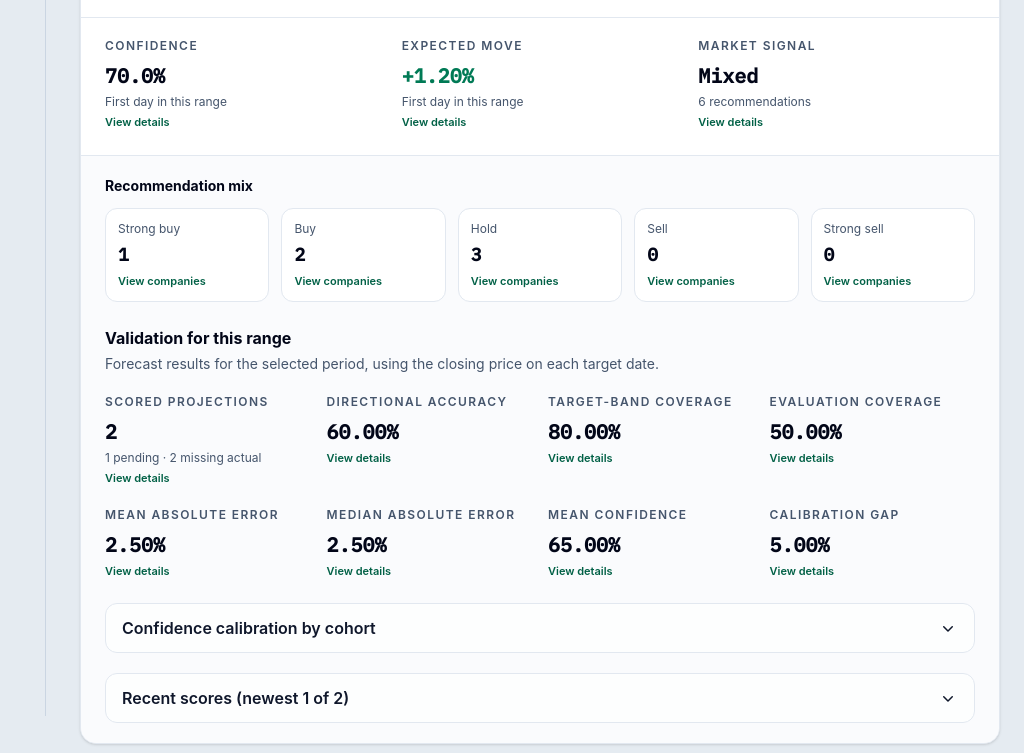
Scenario: HistoricalTrends fetch races › renders exact-session validation metrics and sample outcomes
(page scrolled)
Expected: the text "Directional accuracy" is shown, x1=326 y1=394 x2=532 y2=410
Expected: the text "60.00%" is shown, x1=326 y1=418 x2=398 y2=445
Step 1. Click the button with aria-label "View directional accuracy details: 60.00%" → (421, 442), box x1=318 y1=414 x2=524 y2=470
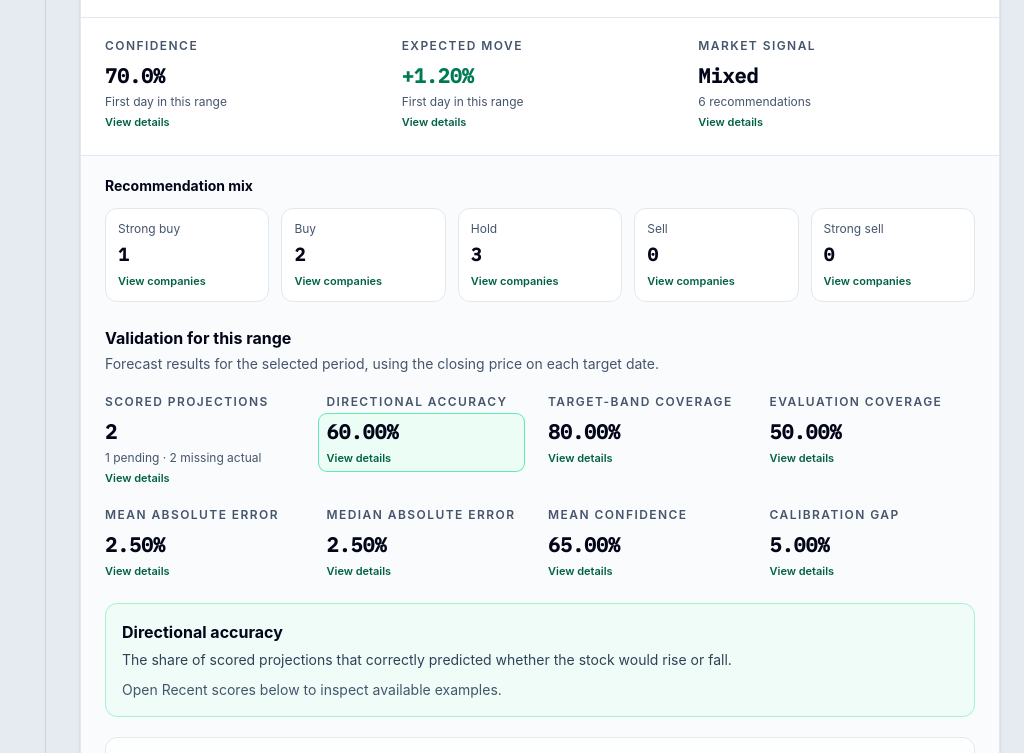
Expected: the element named "Directional accuracy details" shows "correctly predicted", x1=122 y1=651 x2=732 y2=668
